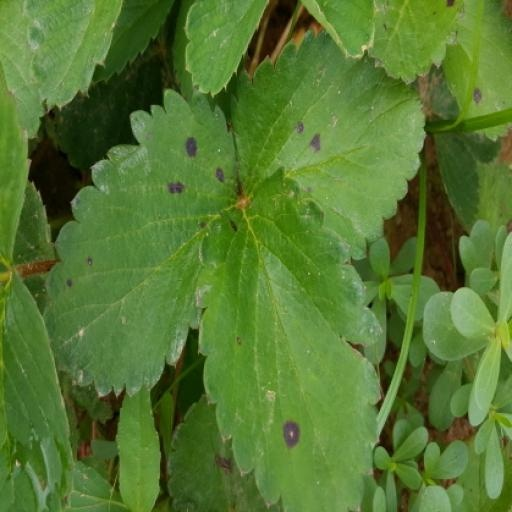Leaf Spot: (129, 163, 320, 511), (270, 85, 468, 401), (83, 29, 286, 261), (55, 0, 213, 88), (0, 0, 69, 143)
